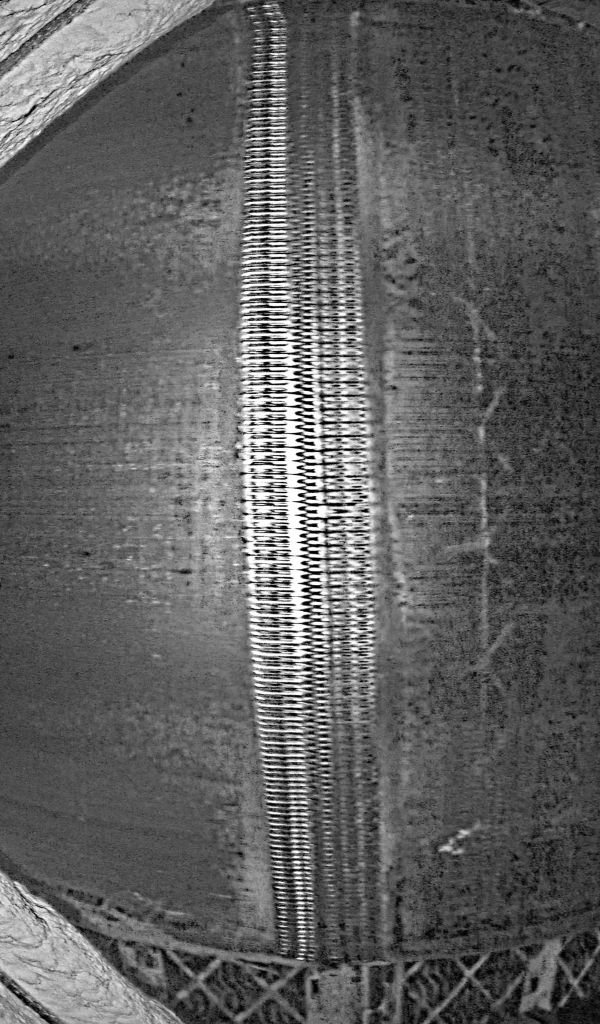splice: (237, 3, 390, 975)
